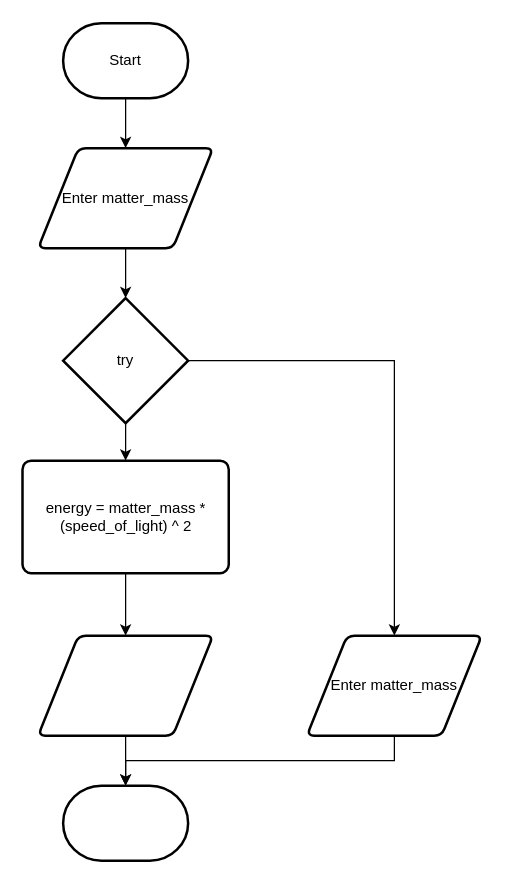
Image size: 505x883. Some labels were removed from this diagram. The shapes that lost their labels are listed below. From the top down, each one's centre as x and y in pixels, then its label:
At [125,685]: "Show display".
At [125,822]: "Stop".
